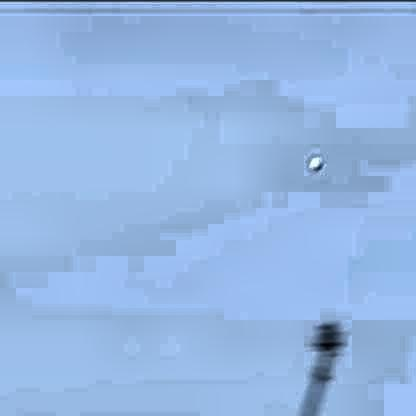golfball: (306, 155, 322, 168)
